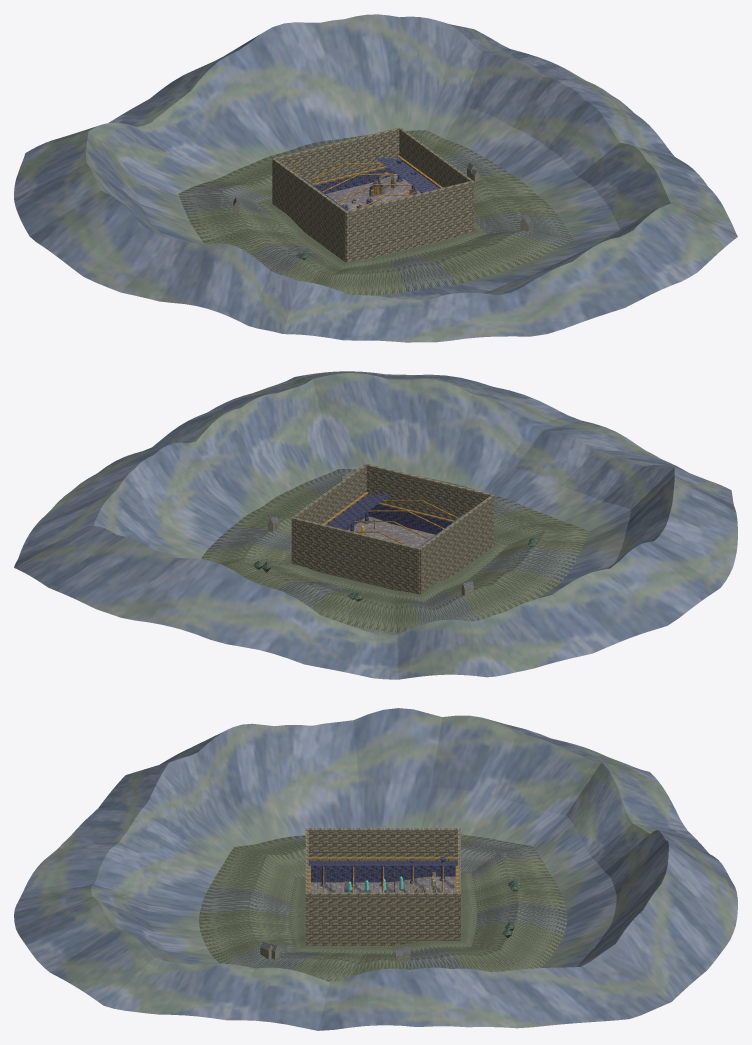
File: LanternCourt.fbx
3 views of the same model, one above another, from view 1: azimuth 30°, elevation 25°; view 2: azimuth 150°, elevation 25°; view 3: azimuth 270°, elevation 25° (orthographic). The views are drawn at different scales.
Visible parts, largest first — view 1: Surroundings, C_Solids, Rim, Terrain; view 2: Surroundings, C_Solids, Rim, Terrain; view 3: Surroundings, C_Solids, Rim, Terrain, Set.
Part boxes in pixels (x1,y1,x2,y2): Surroundings: (14, 14, 737, 342); C_Solids: (272, 127, 473, 262); Rim: (300, 155, 442, 210); Terrain: (325, 175, 420, 210); Surroundings: (14, 371, 737, 679); C_Solids: (291, 463, 494, 594); Rim: (323, 492, 466, 547); Terrain: (348, 516, 435, 547); Surroundings: (14, 708, 737, 1030); C_Solids: (305, 828, 460, 945); Rim: (308, 857, 457, 892); Terrain: (311, 876, 455, 892); Set: (320, 857, 446, 892).
Size of the model in its own units: 19153 by 2888 by 19404.
